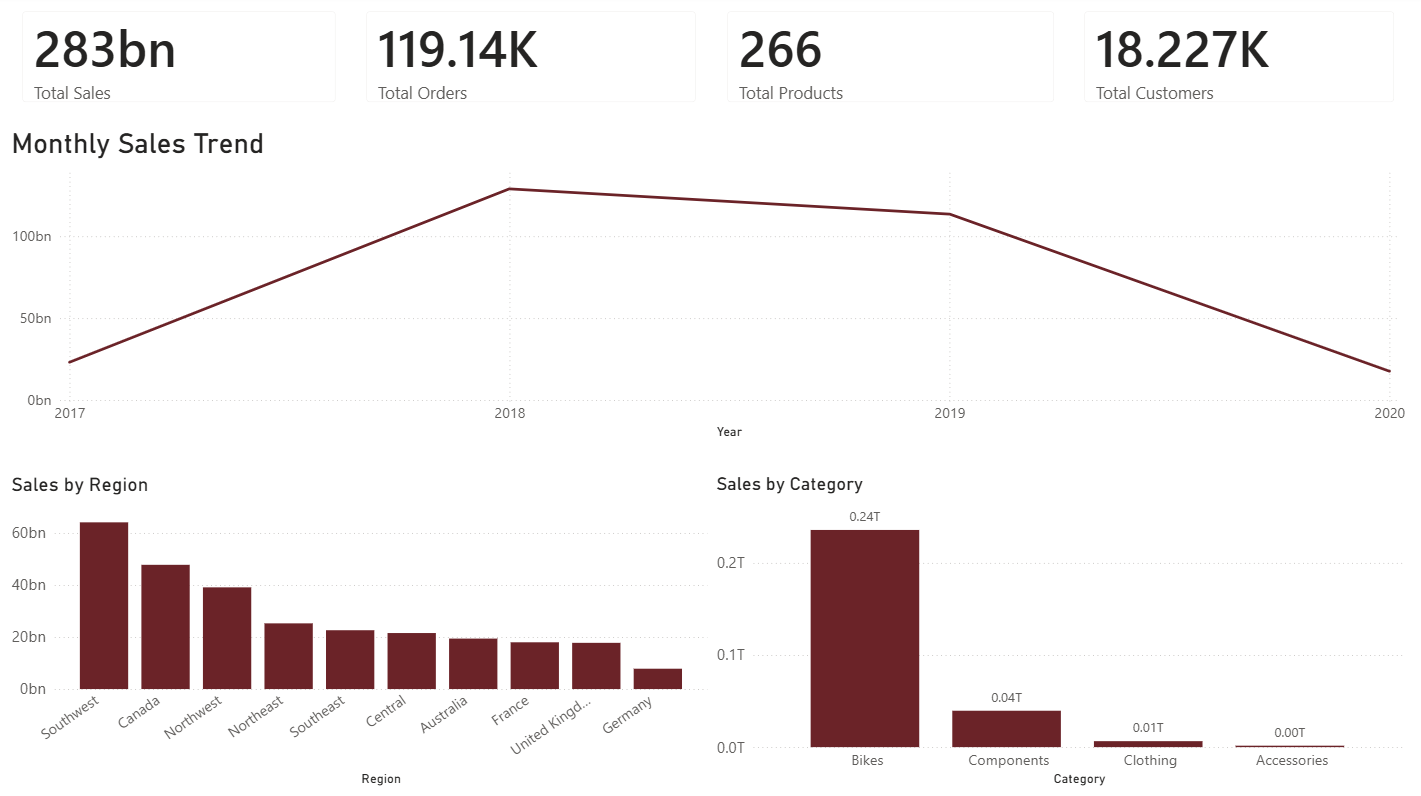

The page's visual inventory and layout, read from the dashboard file:
{"tool":"powerbi","page":{"name":"Executive Dashboard","canvas":[1600,900],"ordinal":0},"visuals":[{"type":"cardVisual","fields":{"Data":["Sum(clean_adventureworks.Sales Amount)"]},"box":[0,0,396.8,136.3],"z":0},{"type":"cardVisual","fields":{"Data":["CountNonNull(clean_adventureworks.SalesOrderLineKey)"]},"box":[396.8,0,403.4,136.3],"z":1000},{"type":"cardVisual","fields":{"Data":["Count(clean_adventureworks.Product)"]},"box":[800.2,0,400.1,136.3],"z":2000},{"type":"cardVisual","fields":{"Data":["Count(clean_adventureworks.Customer ID)"]},"box":[1200.4,0,400.1,136.3],"z":3000},{"type":"lineChart","title":"Monthly Sales Trend","fields":{"Category":["clean_adventureworks.OrderDateKey.Variation.Date Hierarchy.Year","clean_adventureworks.OrderDateKey.Variation.Date Hierarchy.Month"],"Y":["Sum(clean_adventureworks.Sales Amount)"]},"box":[0,136.3,1600.5,363.5],"z":4000},{"type":"columnChart","title":"Sales by Category","fields":{"Category":["clean_adventureworks.Category"],"Y":["Sum(clean_adventureworks.Sales Amount)"]},"box":[800.2,499.9,800.2,400.1],"z":5000},{"type":"columnChart","title":"Sales by Region","fields":{"Category":["clean_adventureworks.Region"],"Y":["Sum(clean_adventureworks.Sales Amount)"]},"box":[0,499.9,800.8,399.6],"z":6000}]}

Visuals, with their boxes in screenshot pixels (x1, y1, x2, y2), scaled from the page's 1600x900 canvas onto the 1421x796 screenshot:
cardVisual - Sum(clean_adventureworks.Sales Amount): (x1=0, y1=0, x2=352, y2=121)
cardVisual - CountNonNull(clean_adventureworks.SalesOrderLineKey): (x1=352, y1=0, x2=711, y2=121)
cardVisual - Count(clean_adventureworks.Product): (x1=711, y1=0, x2=1066, y2=121)
cardVisual - Count(clean_adventureworks.Customer ID): (x1=1066, y1=0, x2=1420, y2=121)
"Monthly Sales Trend" lineChart: (x1=0, y1=121, x2=1420, y2=442)
"Sales by Category" columnChart: (x1=711, y1=442, x2=1420, y2=795)
"Sales by Region" columnChart: (x1=0, y1=442, x2=711, y2=795)
